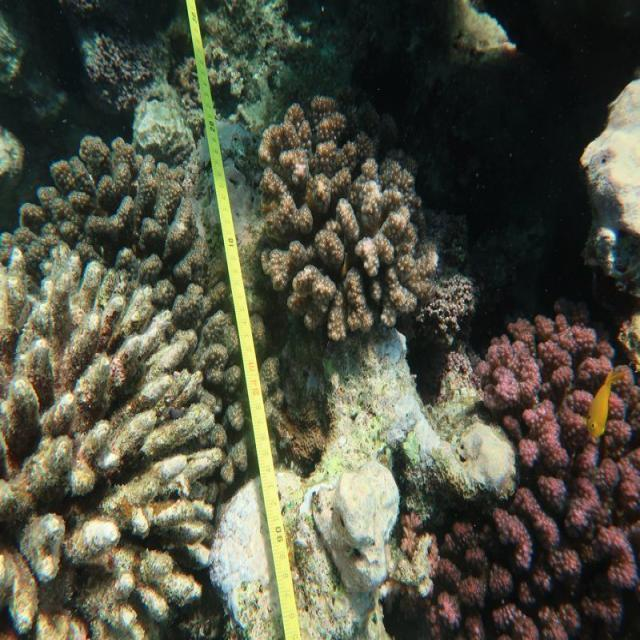Dead Coral: (0, 117, 239, 640)
Healthy Coral: (443, 303, 640, 639), (258, 90, 439, 361)
